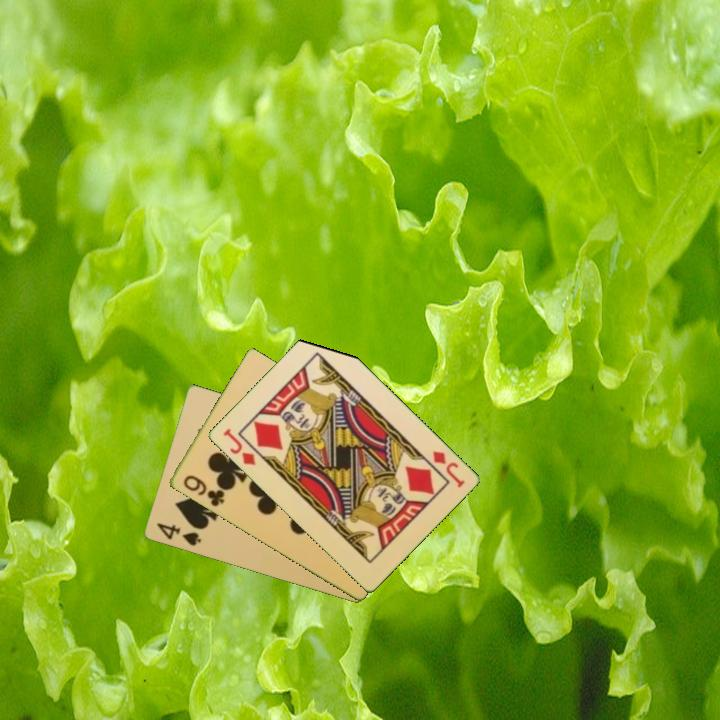4s: (153, 519, 204, 549)
9c: (179, 471, 227, 510)
Jd: (428, 447, 467, 491), (219, 425, 258, 468)
